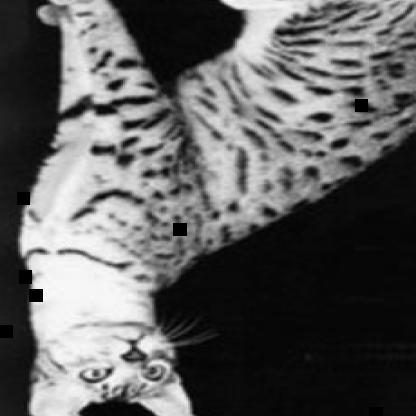cat: (14, 1, 415, 415)
